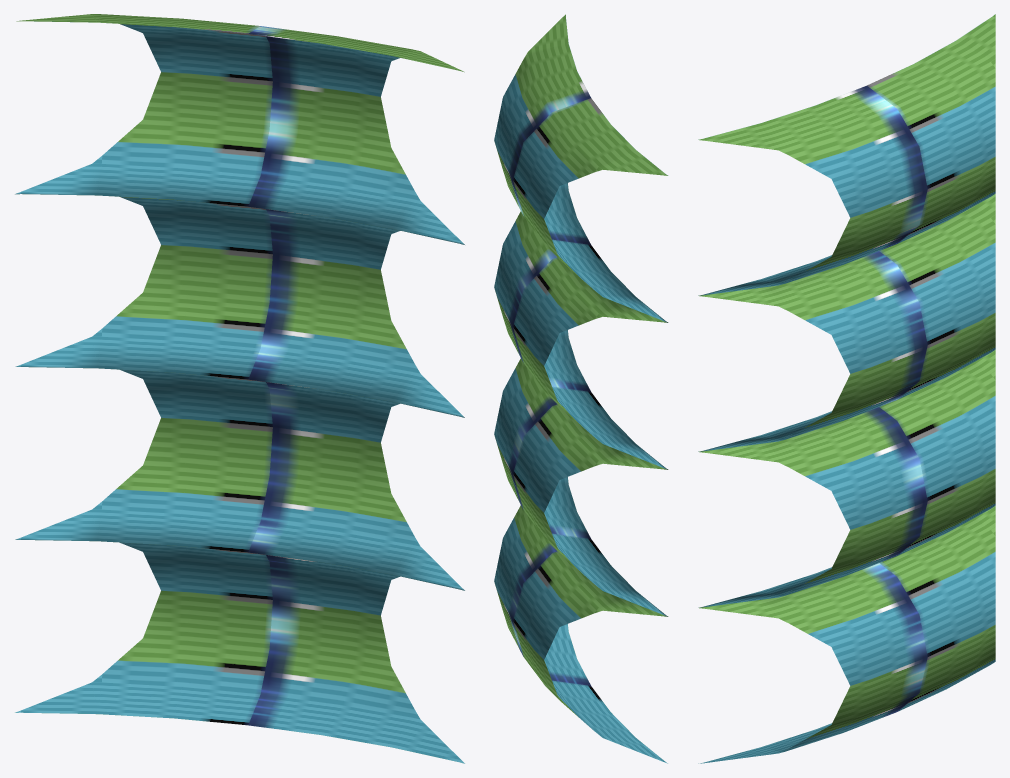
File: tng_core2_c.obj
The picture shows the model from 3 angles, left to right: view 1: azimuth 30°, elevation 25°; view 2: azimuth 150°, elevation 25°; view 3: azimuth 270°, elevation 25°; orthographic projection. The views are drawn at different scales.
Parts seen in each view (by area): view 1: WarpGroupC_meshC; view 2: WarpGroupC_meshC; view 3: WarpGroupC_meshC.
Part boxes in pixels (<box>): WarpGroupC_meshC: <box>15,14,464,763</box>; WarpGroupC_meshC: <box>494,14,668,763</box>; WarpGroupC_meshC: <box>698,14,995,763</box>.
Bounding box in the file's own units: 0.4328 × 1 × 0.4328.
